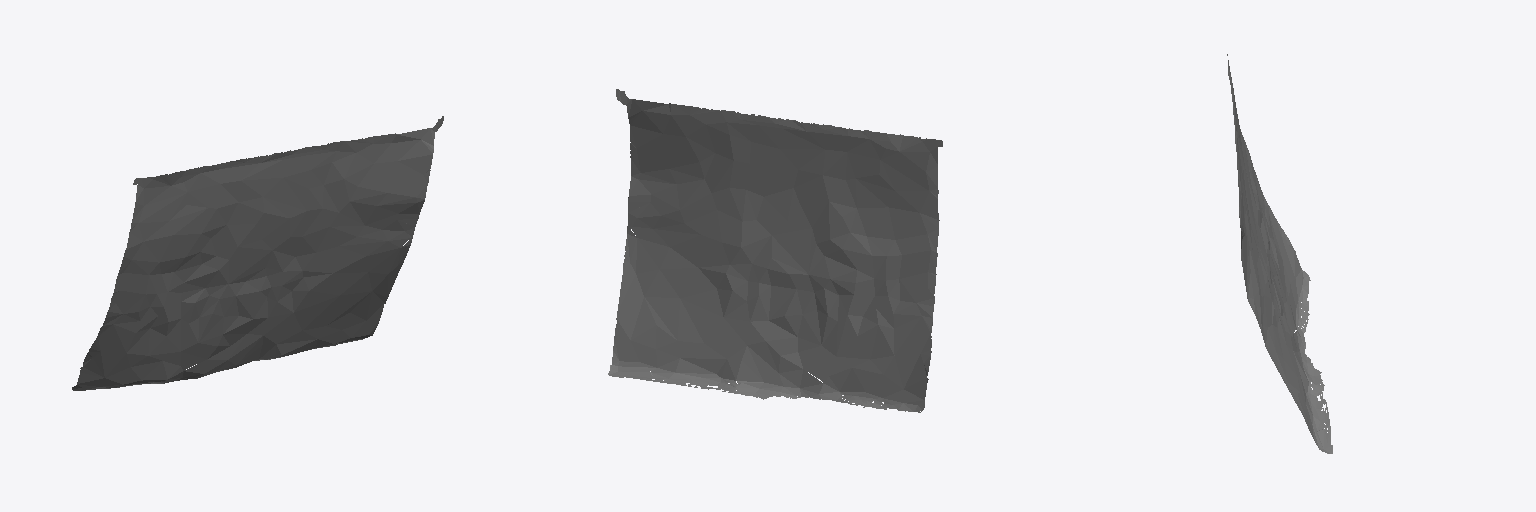
Rendered from blenderfour.obj.
3 views of the same model, side by side, from view 1: azimuth 30°, elevation 25°; view 2: azimuth 150°, elevation 25°; view 3: azimuth 270°, elevation 25° (orthographic).
Visible parts, largest first — view 1: test; view 2: test; view 3: test.
Part boxes in pixels (left/top/right/bottom): test: left=72, top=116, right=443, bottom=390; test: left=608, top=89, right=942, bottom=412; test: left=1227, top=54, right=1332, bottom=453.
Bounding box in the file's own units: 121 × 90.55 × 32.73.